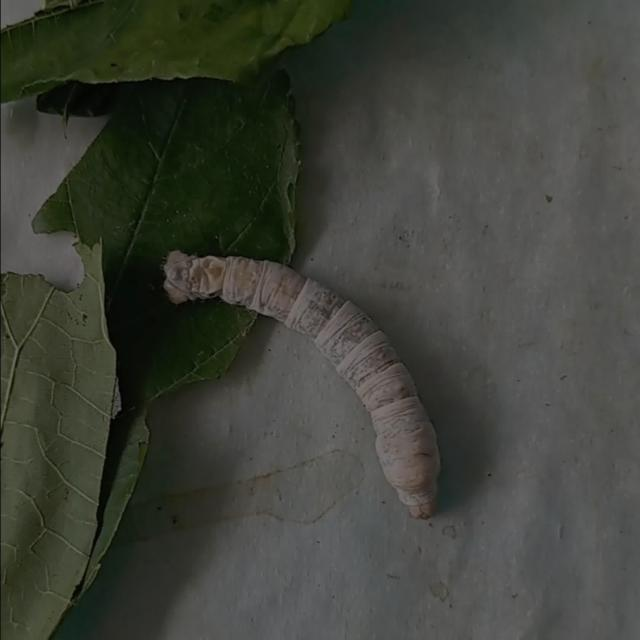Grasserie: (145, 236, 472, 546)
